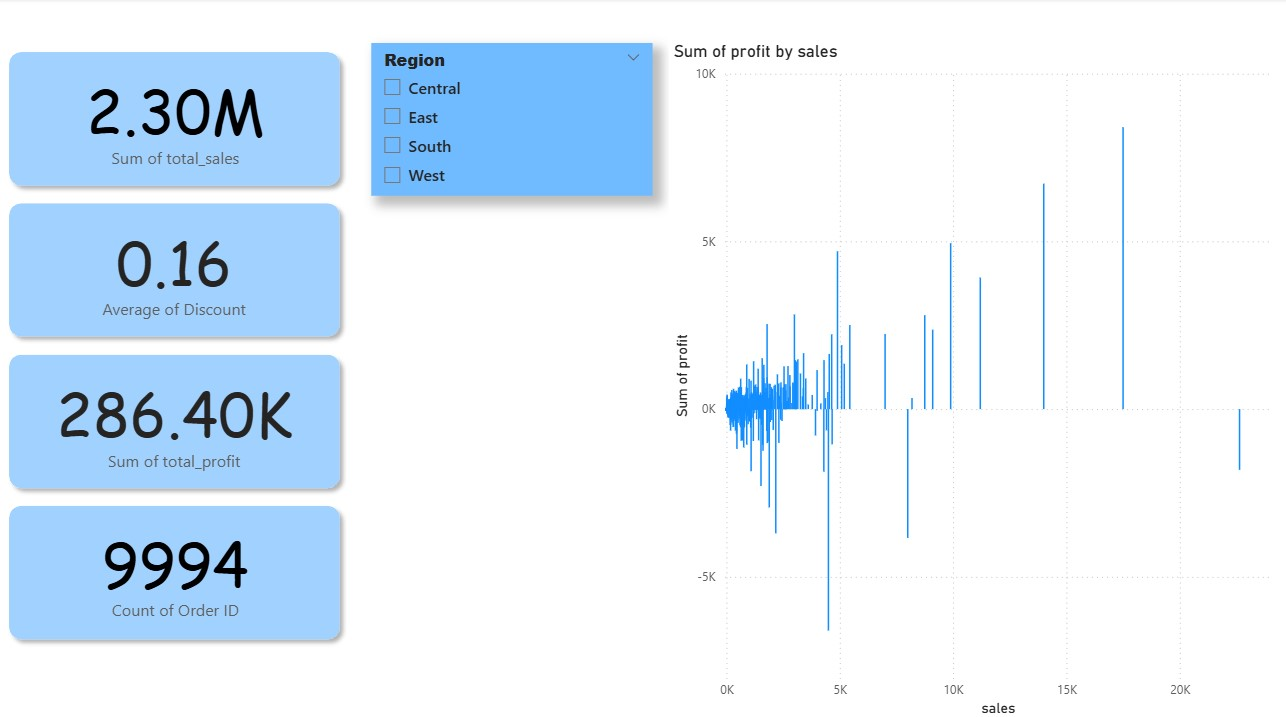

Layout of this report page (visuals, bound fields, positions):
{"tool":"powerbi","page":{"name":"Page 1","canvas":[1280,720],"ordinal":0},"visuals":[{"type":"shape","box":[0,45.3,347.2,150.9],"z":0},{"type":"shape","box":[0,194.9,347.1,150.5],"z":0,"group":"g1"},{"type":"card","fields":{"Values":["Sum(RegionalSales.total_sales)"]},"box":[34.3,61.7,279.9,116.6],"z":1000},{"type":"shape","box":[0,345.8,347.2,150.9],"z":1000,"group":"g2"},{"type":"slicer","fields":{"Values":["RegionalSales.Region"]},"box":[369.1,45.3,279.9,152.3],"z":2000},{"type":"shape","box":[0,496.7,347.2,150.9],"z":2000,"group":"g3"},{"type":"group","id":"g1","title":"Group 1","box":[0,194.9,347.2,150.9],"z":3000},{"type":"group","id":"g2","title":"Group 2","box":[0,345.8,347.2,150.9],"z":4000},{"type":"card","fields":{"Values":["Sum(RegionalSales.total_profit)"]},"box":[33.4,362.7,279.9,116.9],"z":5000,"group":"g2"},{"type":"group","id":"g3","title":"Group 3","box":[0,496.7,347.2,150.9],"z":5000},{"type":"clusteredColumnChart","fields":{"Category":["Superstore_FINAL_FIXED.sales"],"Y":["Sum(Superstore_FINAL_FIXED.profit)"]},"box":[665.5,42.5,614.8,677.9],"z":6000},{"type":"card","fields":{"Values":["CountNonNull(Superstore_FINAL_FIXED.Order ID)"]},"box":[34.3,513.2,279.9,116.6],"z":6000,"group":"g3"},{"type":"card","fields":{"Values":["Avg(Superstore_FINAL_FIXED.Discount)"]},"box":[33.6,212.3,279.9,116.9],"z":7000,"group":"g1"}]}

Visuals, with their boxes in screenshot pixels (x1, y1, x2, y2), scaled from the page's 1280x720 canvas onto the 1286x717 screenshot:
shape: crop(0, 45, 349, 195)
shape: crop(0, 194, 349, 344)
card - Sum(RegionalSales.total_sales): crop(34, 61, 316, 178)
shape: crop(0, 344, 349, 495)
slicer - RegionalSales.Region: crop(371, 45, 652, 197)
shape: crop(0, 495, 349, 645)
"Group 1" group: crop(0, 194, 349, 344)
"Group 2" group: crop(0, 344, 349, 495)
card - Sum(RegionalSales.total_profit): crop(34, 361, 315, 478)
"Group 3" group: crop(0, 495, 349, 645)
clusteredColumnChart - Superstore_FINAL_FIXED.sales x Sum(Superstore_FINAL_FIXED.profit): crop(669, 42, 1285, 716)
card - CountNonNull(Superstore_FINAL_FIXED.Order ID): crop(34, 511, 316, 627)
card - Avg(Superstore_FINAL_FIXED.Discount): crop(34, 211, 315, 328)
